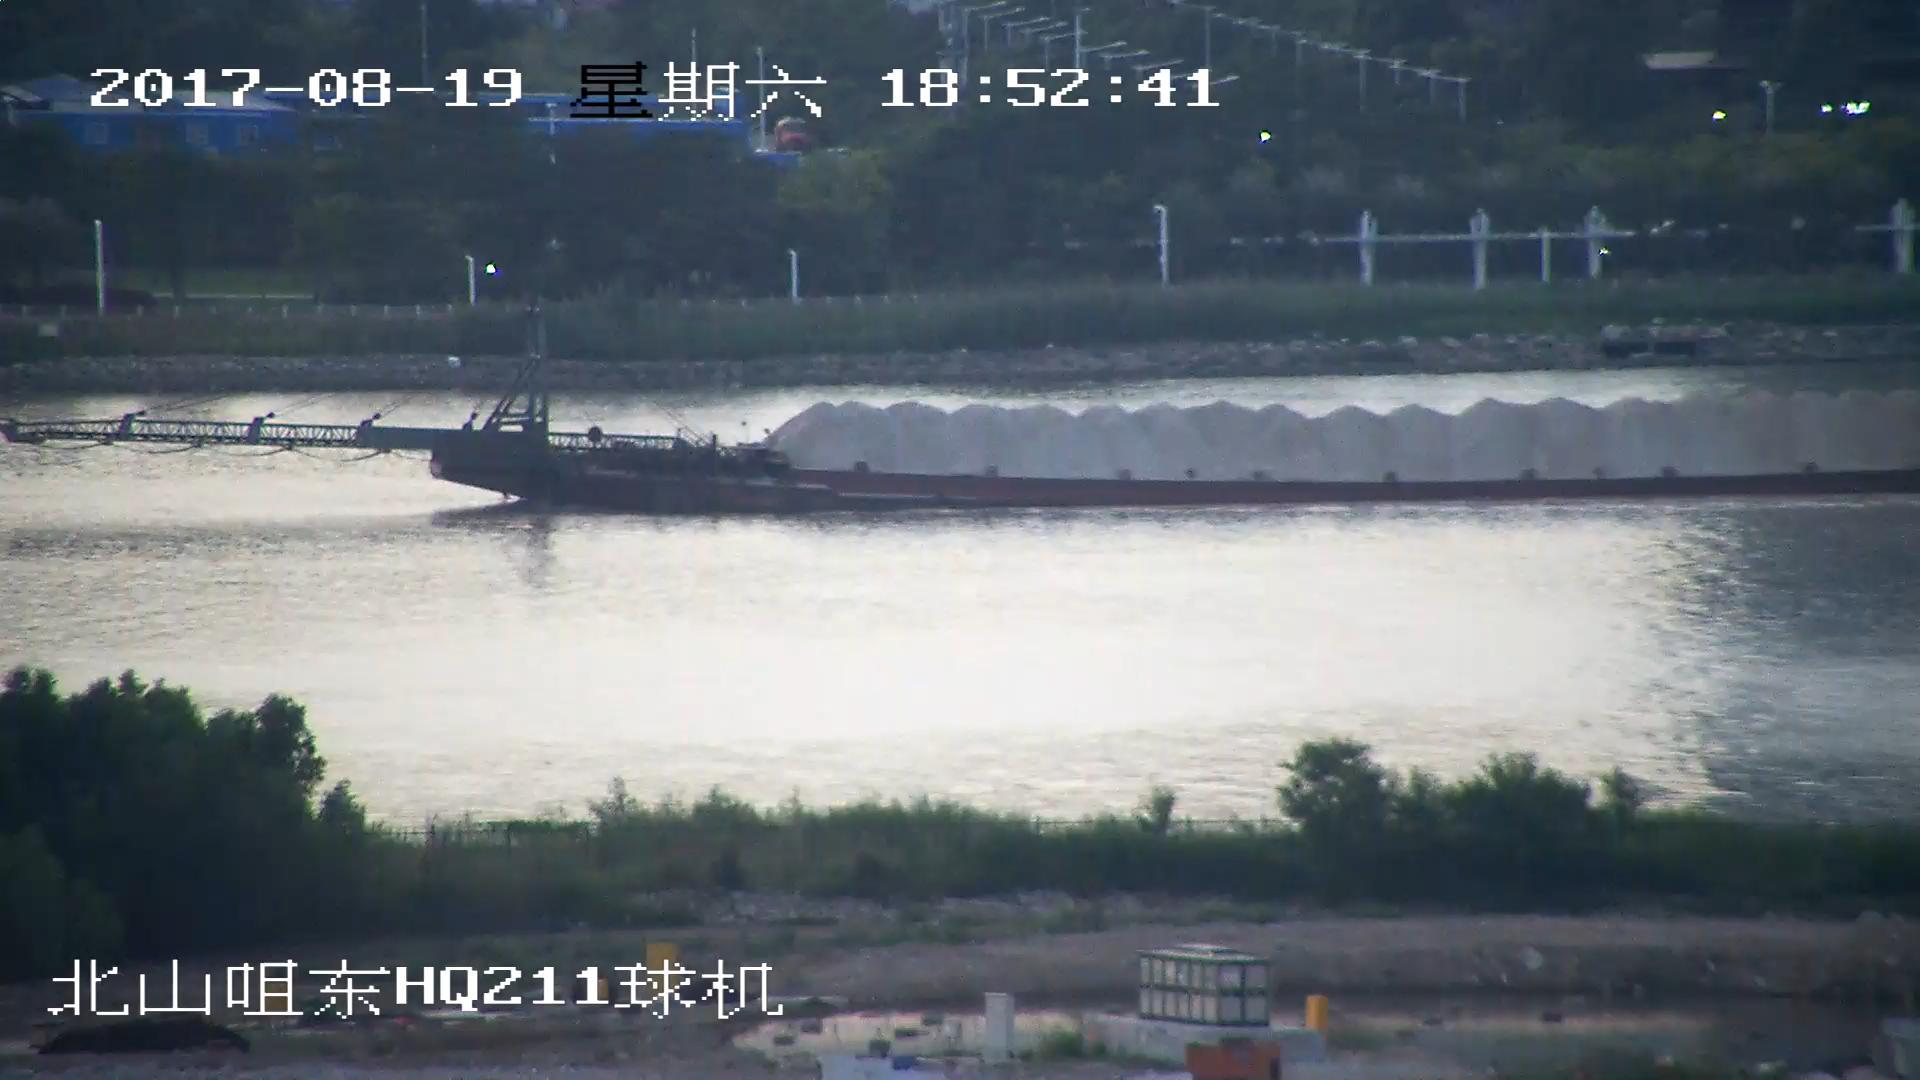Ship: (3, 311, 1920, 516)
